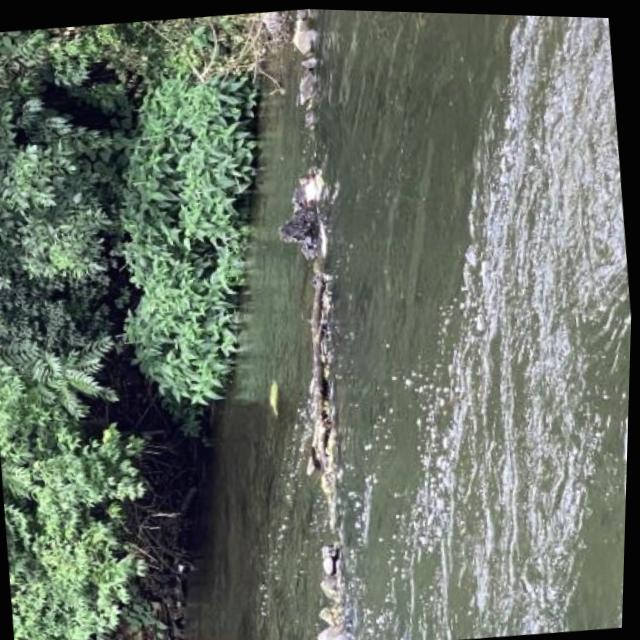Plastic: (265, 379, 286, 420)
